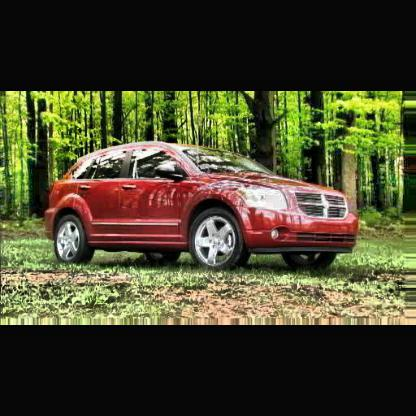Dodge Caliber Wagon 2007: (43, 139, 363, 279)
